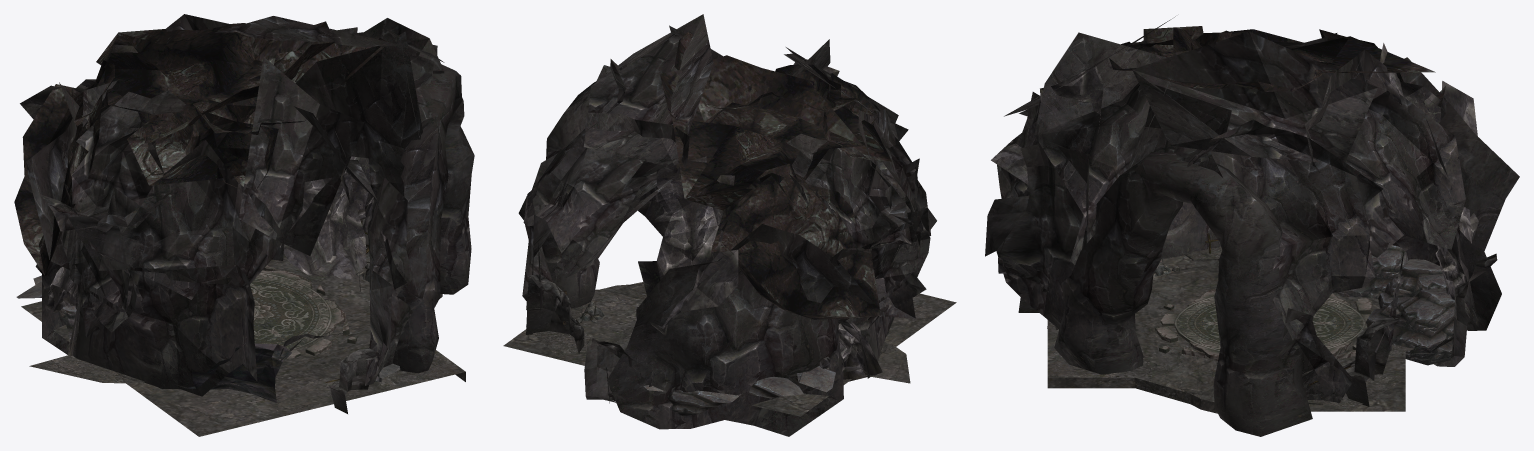
Rendered from cmc_shandong.FBX.
The picture shows the model from 3 angles, left to right: view 1: azimuth 30°, elevation 25°; view 2: azimuth 150°, elevation 25°; view 3: azimuth 270°, elevation 25°; orthographic projection. The views are drawn at different scales.
Parts seen in each view (by area): view 1: cmc_shandong; view 2: cmc_shandong; view 3: cmc_shandong.
Part boxes in pixels (box(x1,y1,x2,y2)): cmc_shandong: box(14, 14, 474, 436); cmc_shandong: box(503, 14, 956, 436); cmc_shandong: box(985, 16, 1519, 436).
Bounding box in the file's own units: 6966 × 5419 × 7496.
